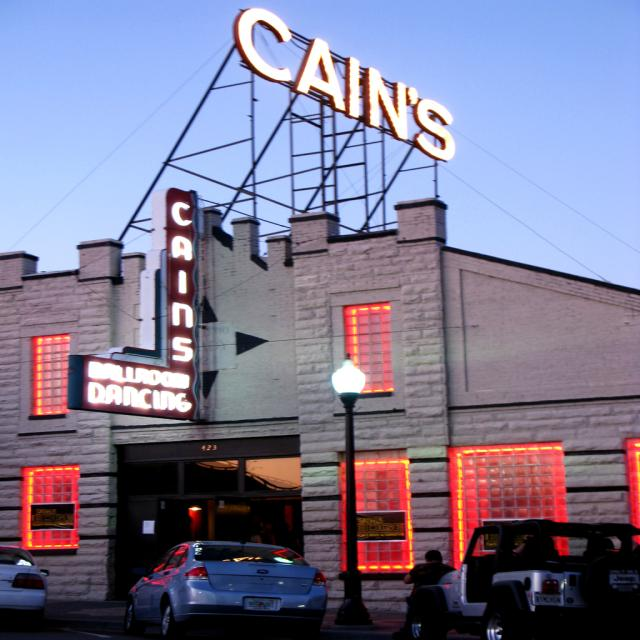car: (126, 541, 332, 625)
